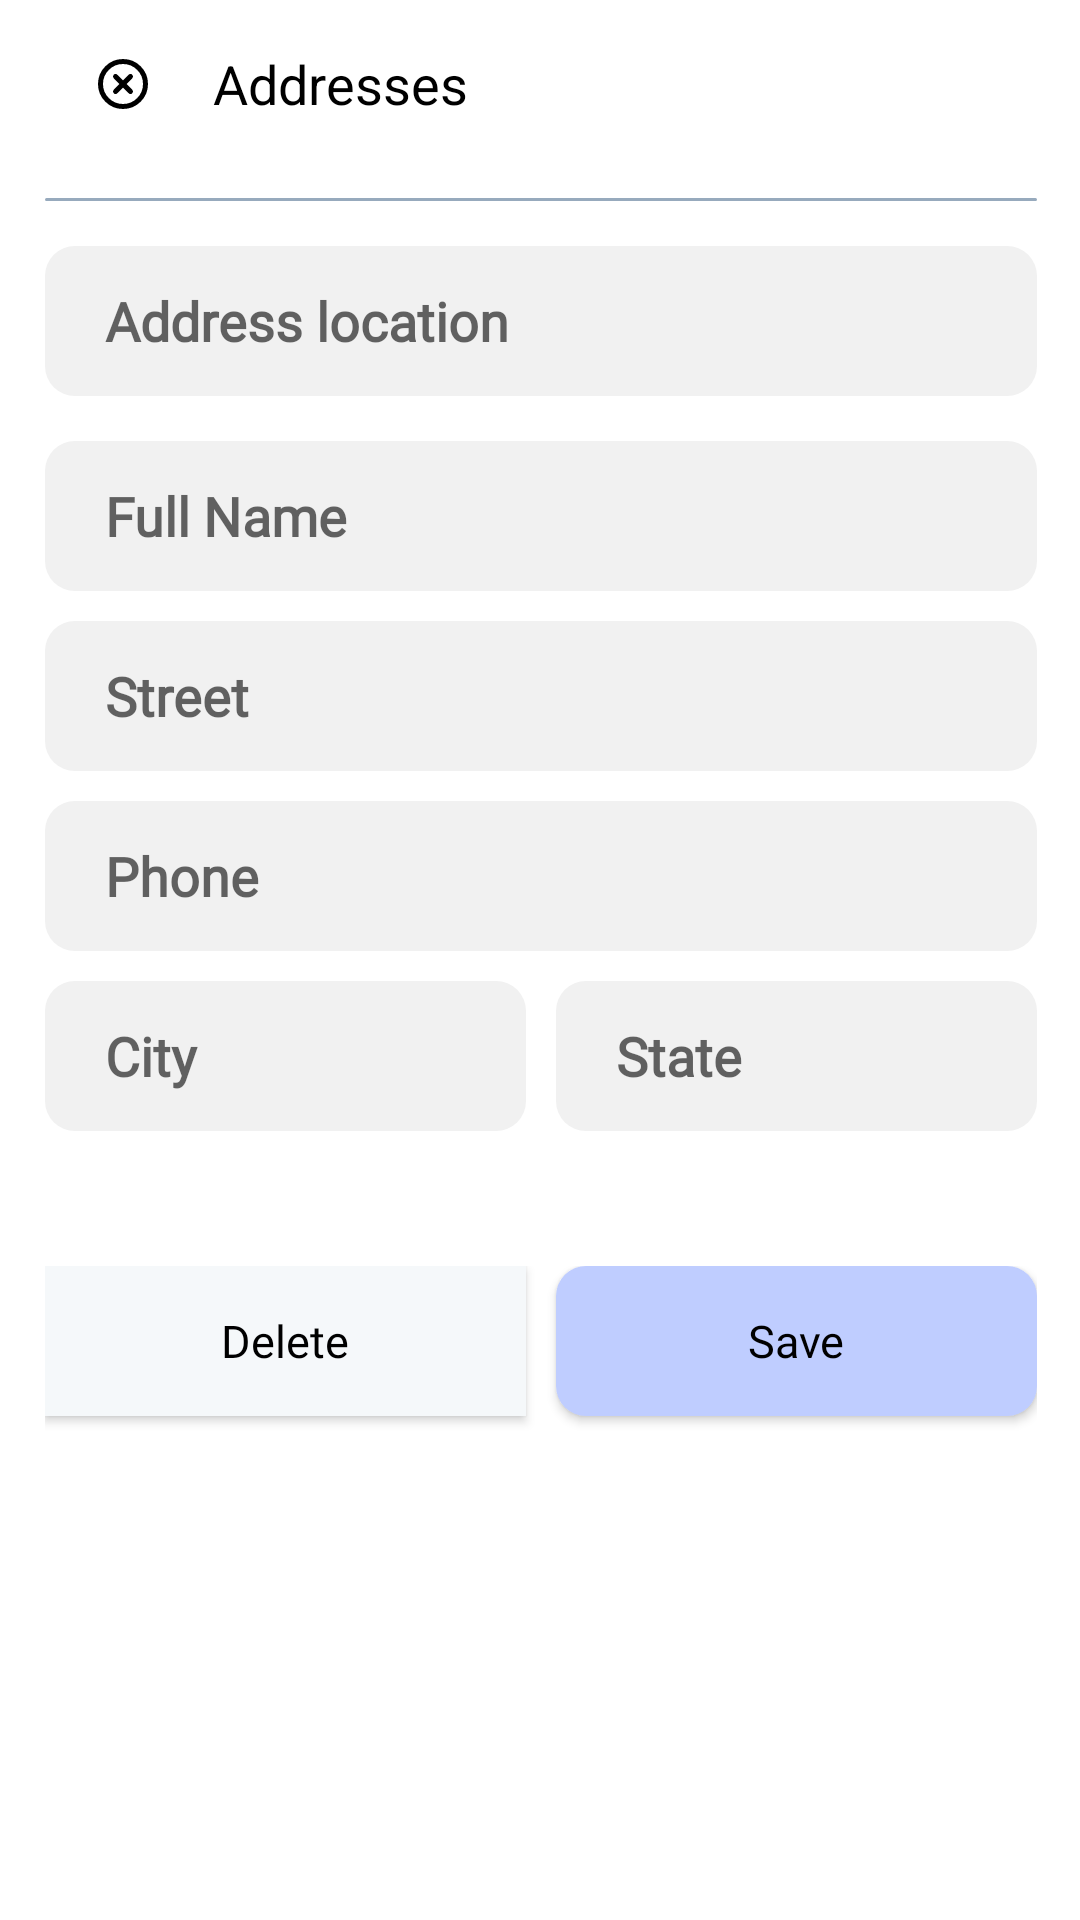

Where icons sit on this 1080×1920 app screen, as (x1, y1, x2, y2):
close: (98, 59, 148, 109)
